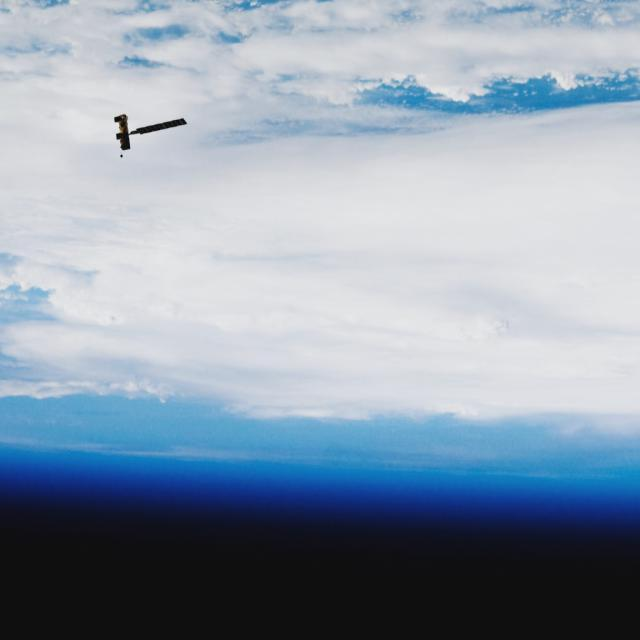satellite: (91, 103, 203, 161)
